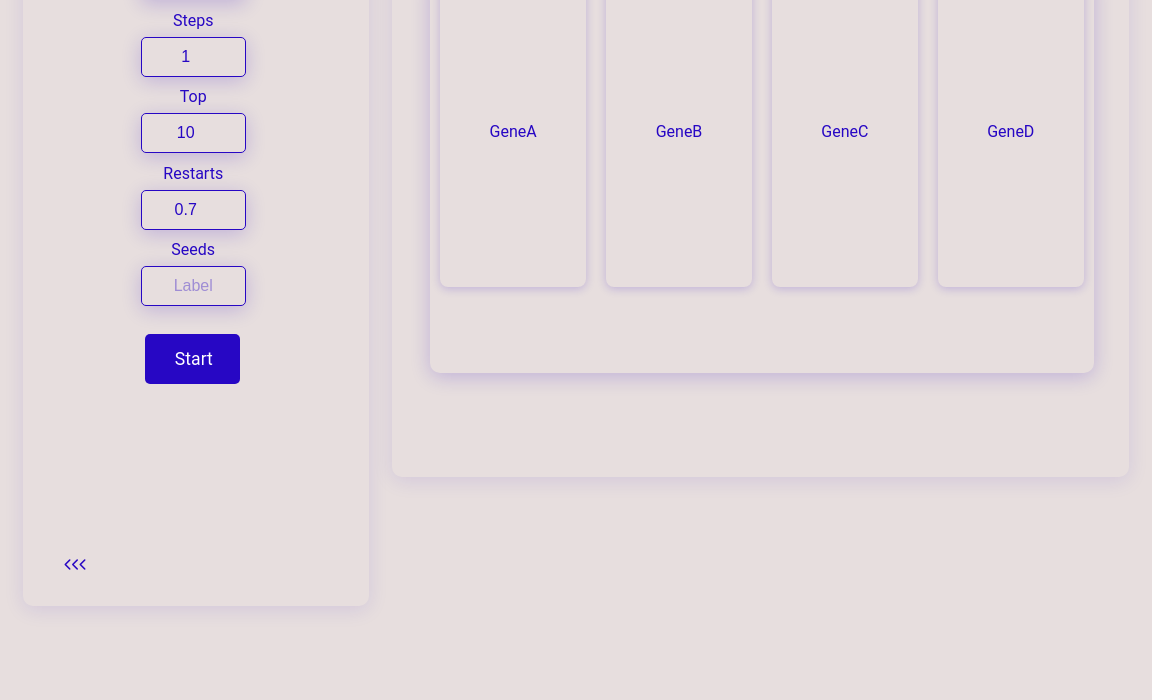
it: MultiplexMA Component — interactions › clic sur Start sans seeds affiche une alerte
(page scrolled)
Click the button "Start" at (192,359), box [145,334,240,384]
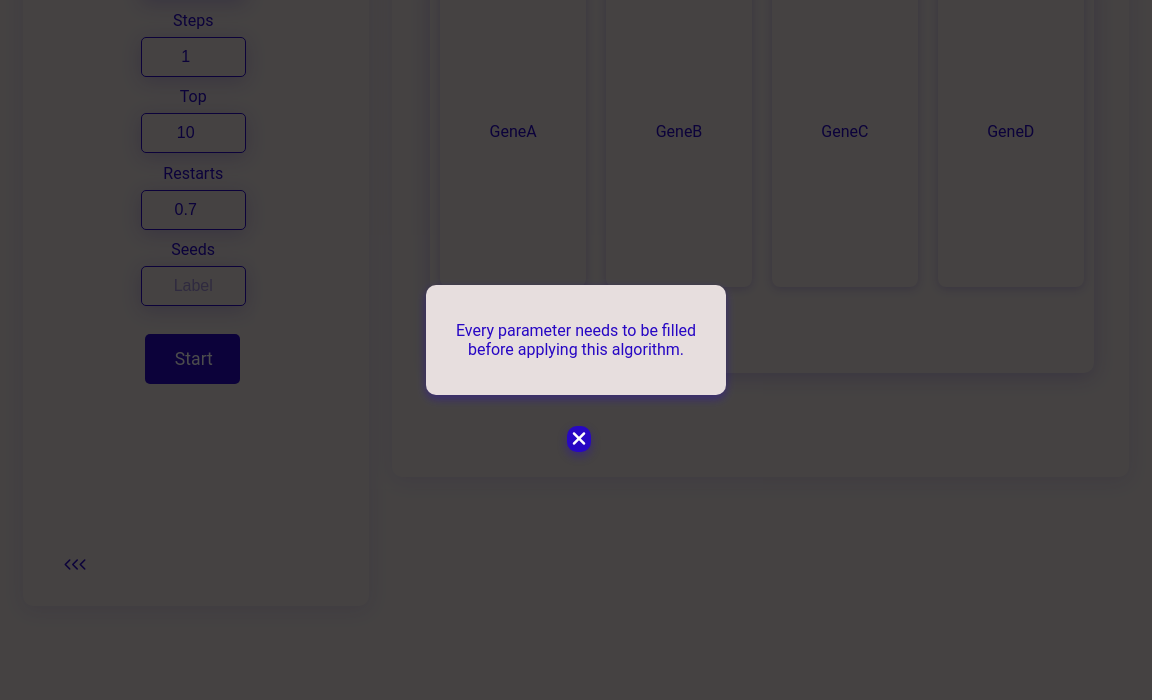
Now the text "parameter" is shown, box [456,321,696,359]
